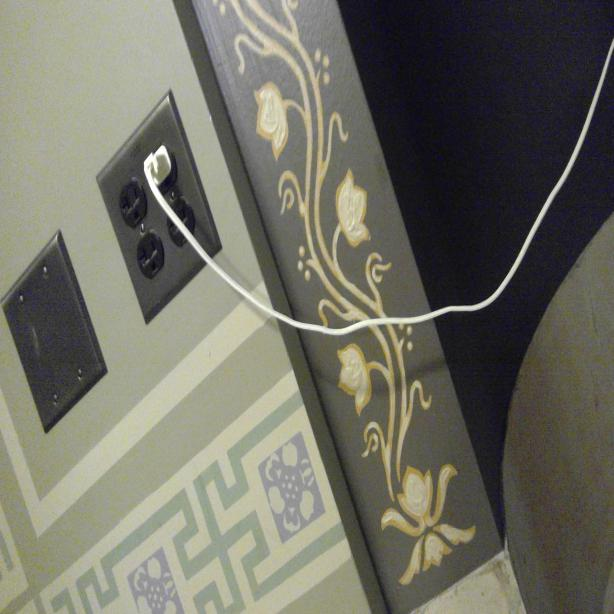typeb: (135, 236, 164, 278), (119, 178, 146, 222)
